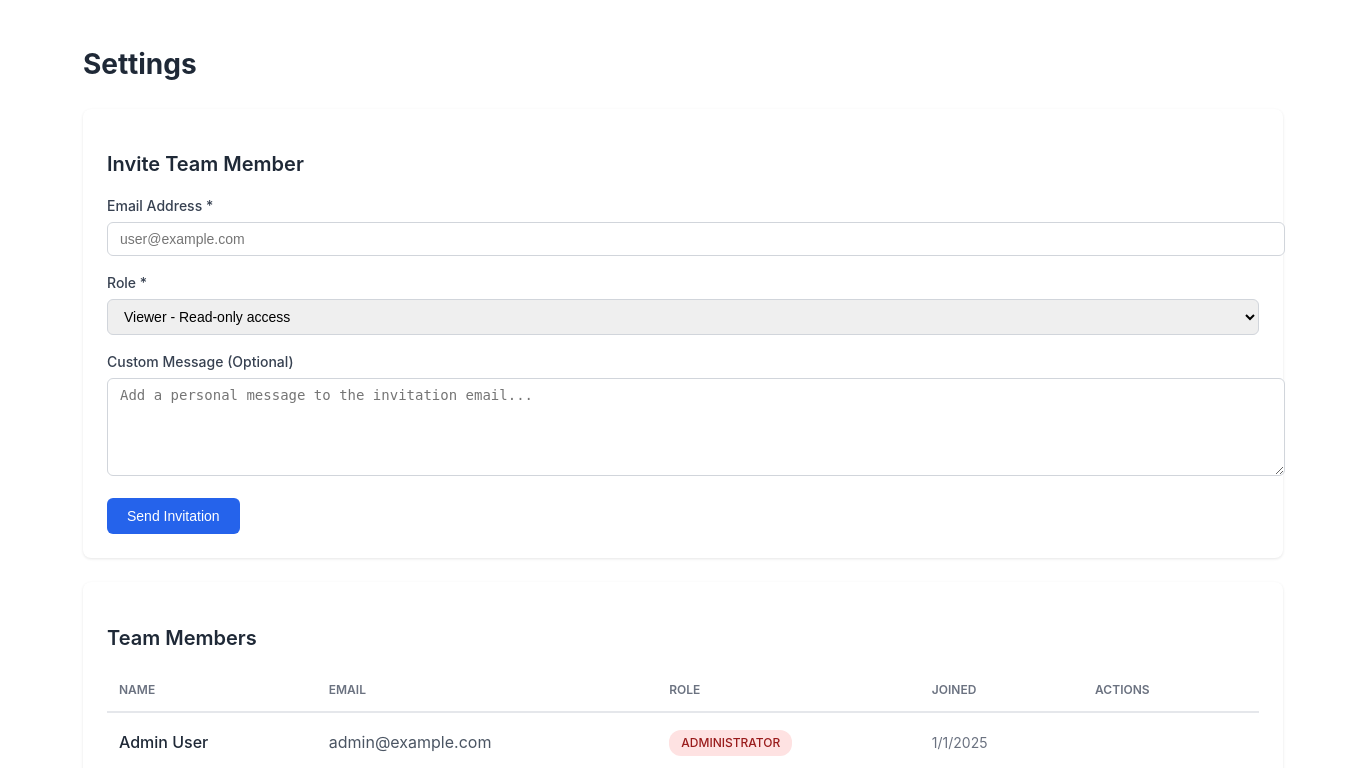
Test: SettingsPage Integration Tests › Invite User Workflow › invites user successfully and shows success message
The image size is (1366, 768).
Expected: the text "Admin User" is shown, [119,732,208,752]
Fill invitation form
In the field labelled "Email Address *": coordinates (696, 239) [107,222,1285,256], type "newuser@example.com"
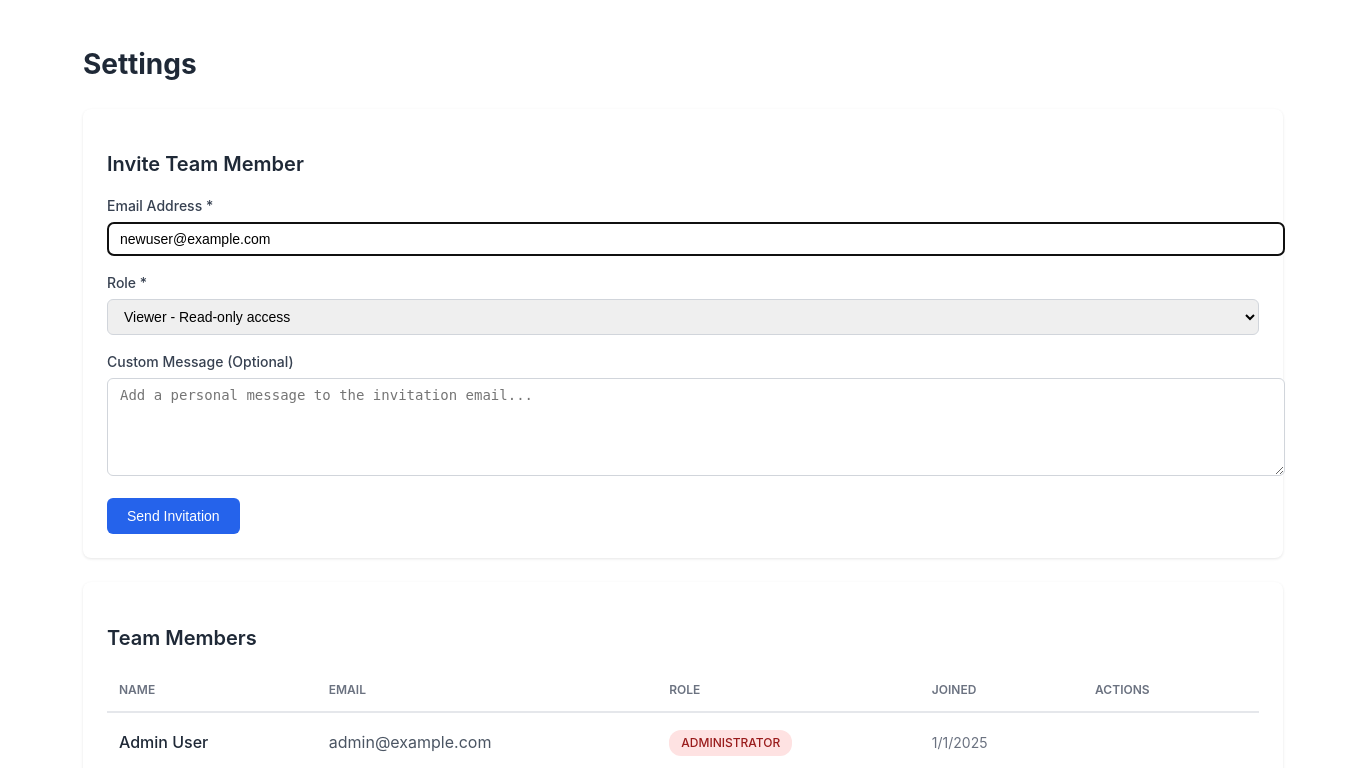
Select "Editor - Can create and modify" in the dropdown labelled "Role *": coordinates (683, 317) [107,299,1259,335]
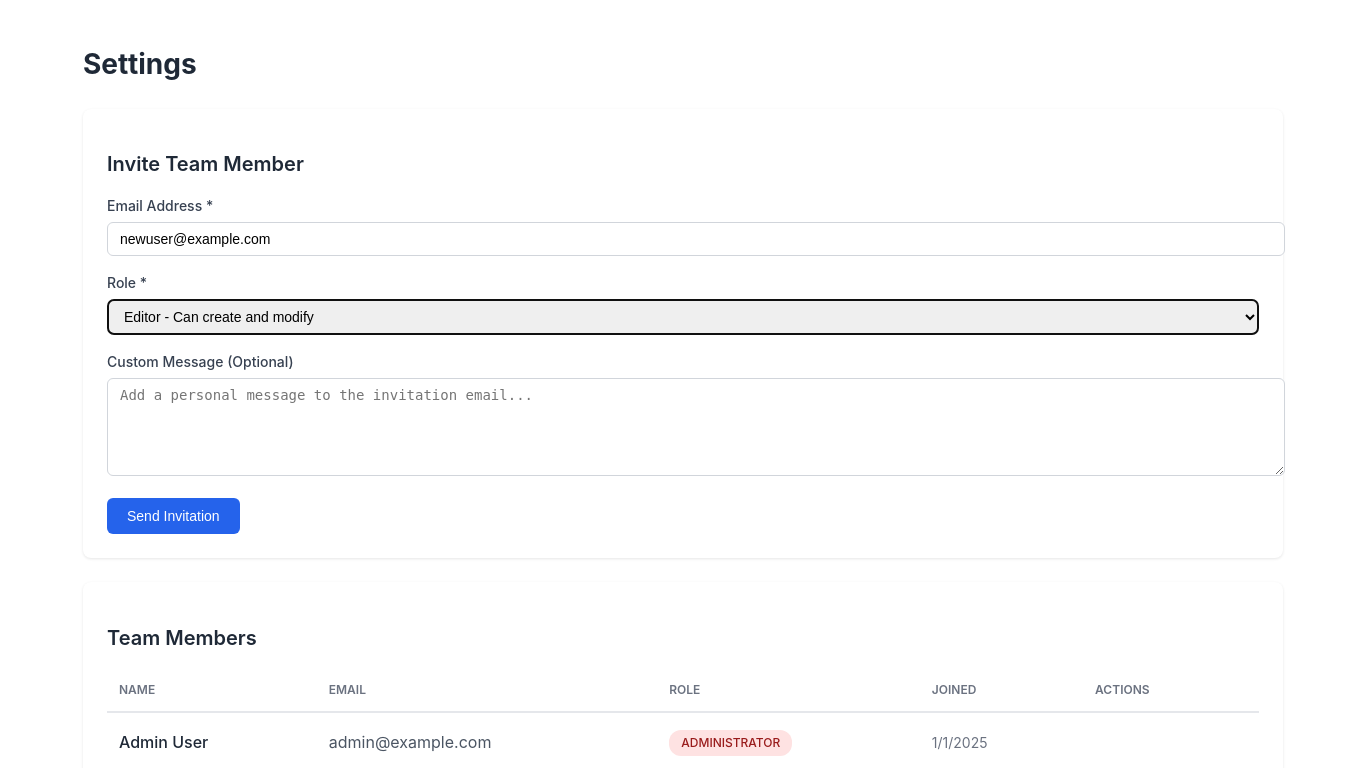
In the text box labelled "Custom Message (Optional)": coordinates (696, 427) [107,378,1285,476], type "Welcome to the team!"
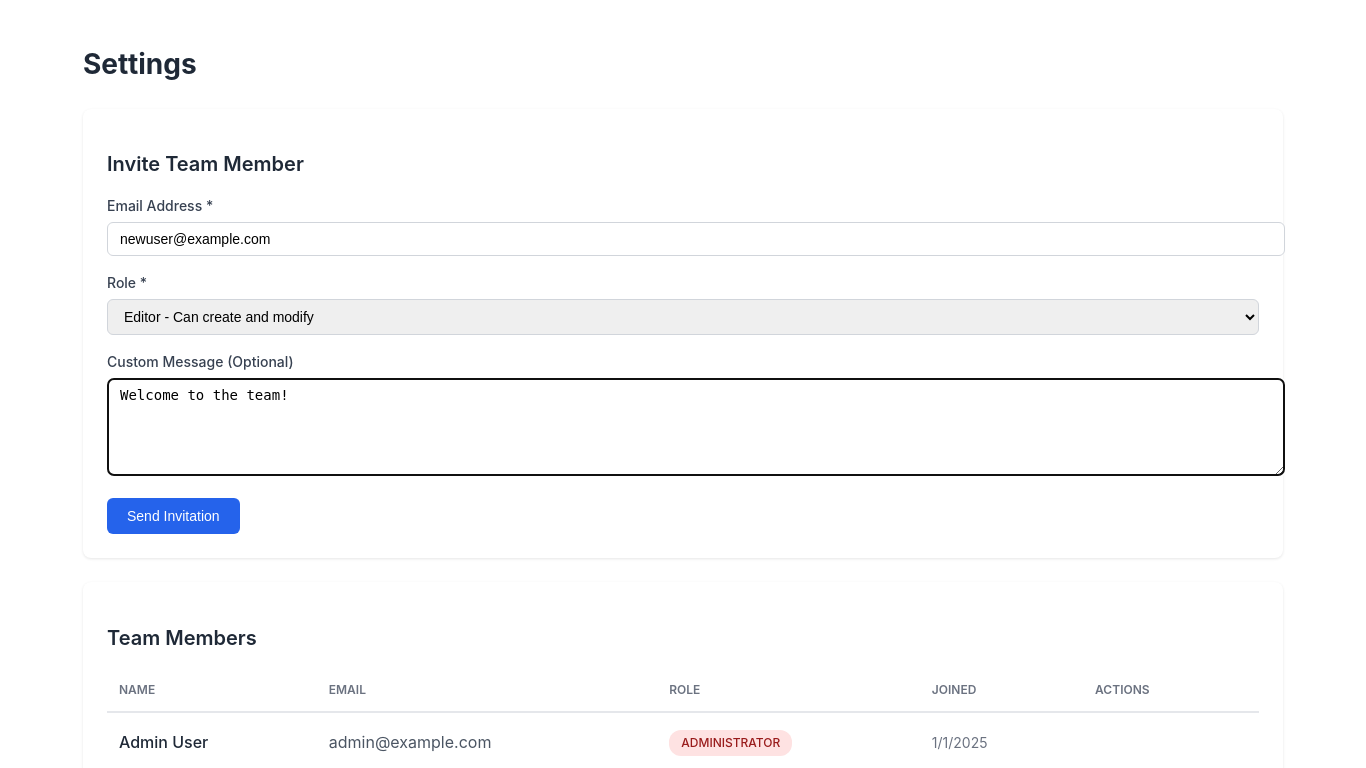
Submit form
Click the button "Send Invitation": coordinates (173, 516) [107,498,240,534]
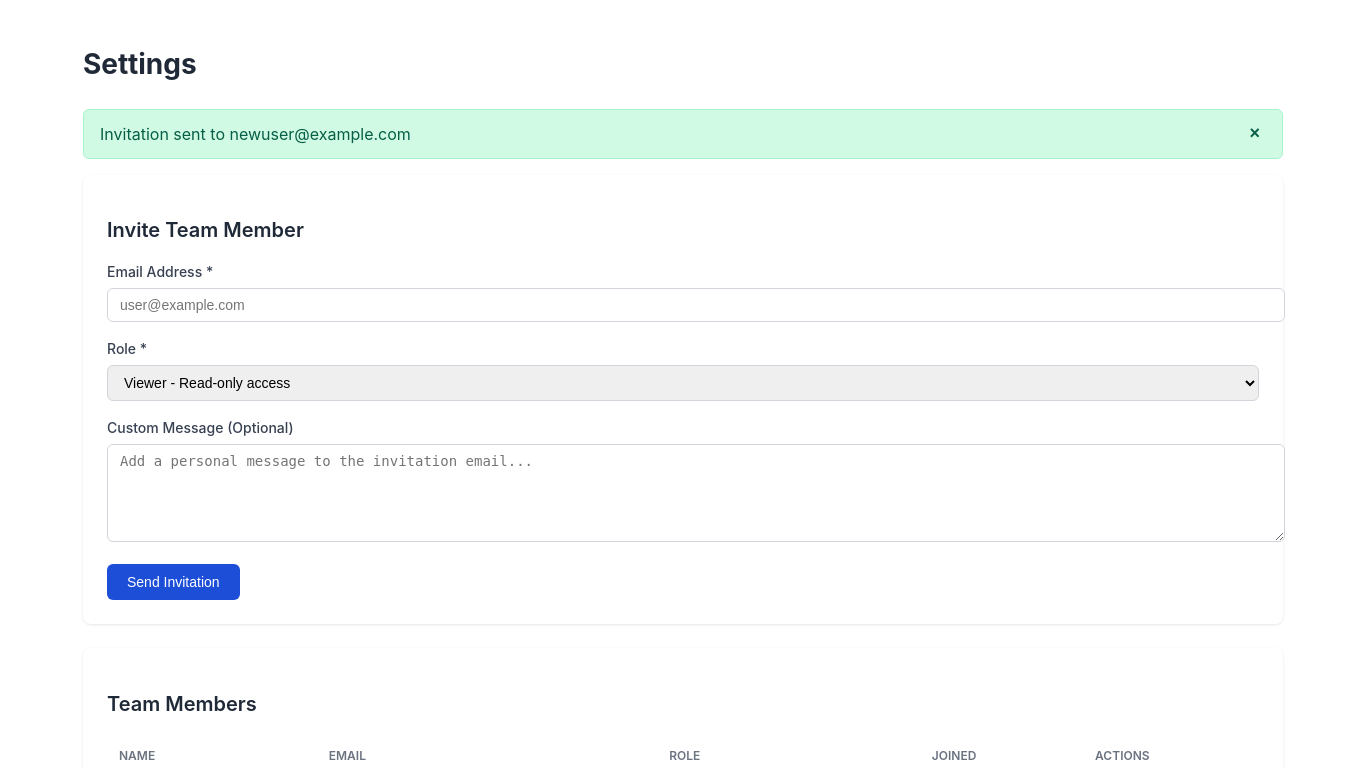
Expected: the text "Invitation sent to newuser@example.com" is shown, [100,122,411,146]
Expected: the field labelled "Email Address *" is empty, [107,288,1285,322]
Expected: the text box labelled "Custom Message (Optional)" is empty, [107,444,1285,542]
